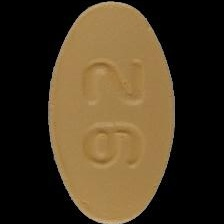33261-745: (0, 0, 224, 224)
